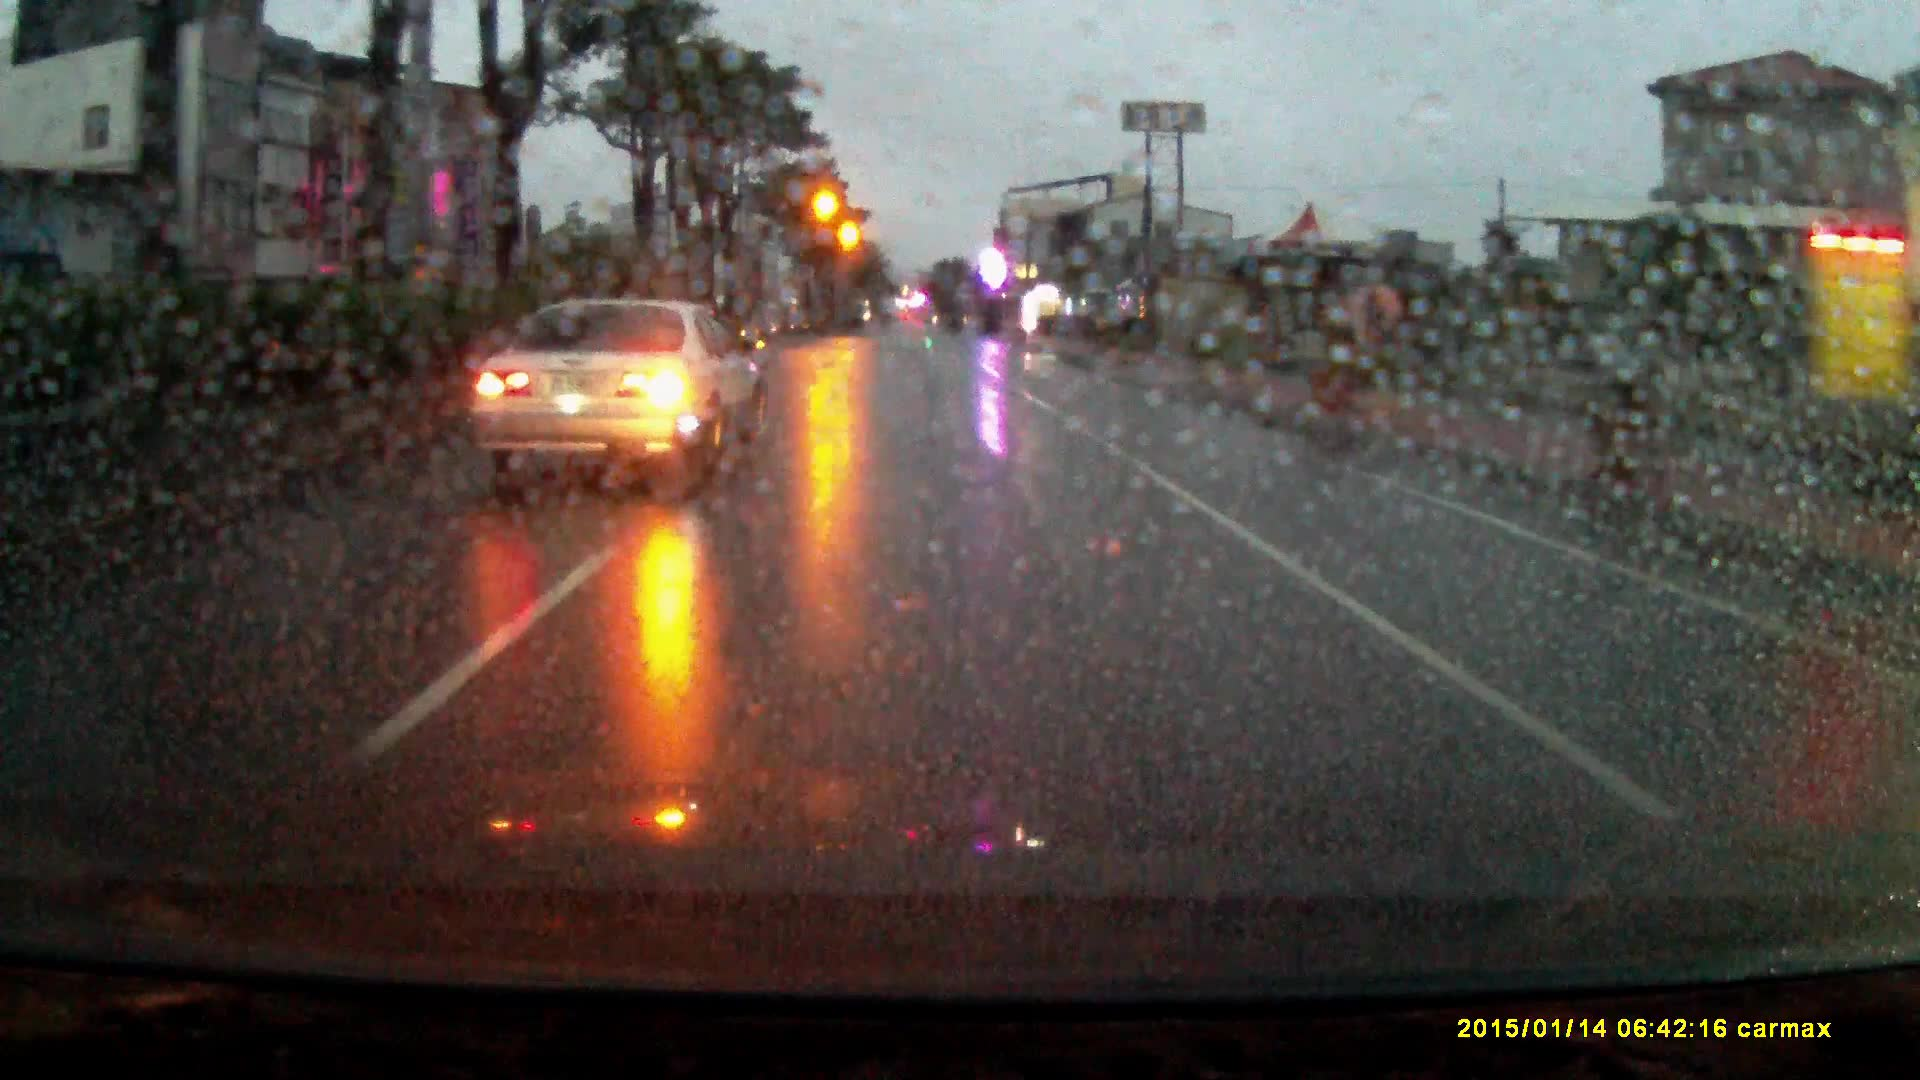pedestrian: (1337, 277, 1405, 413)
vehicle: (473, 287, 773, 487)
